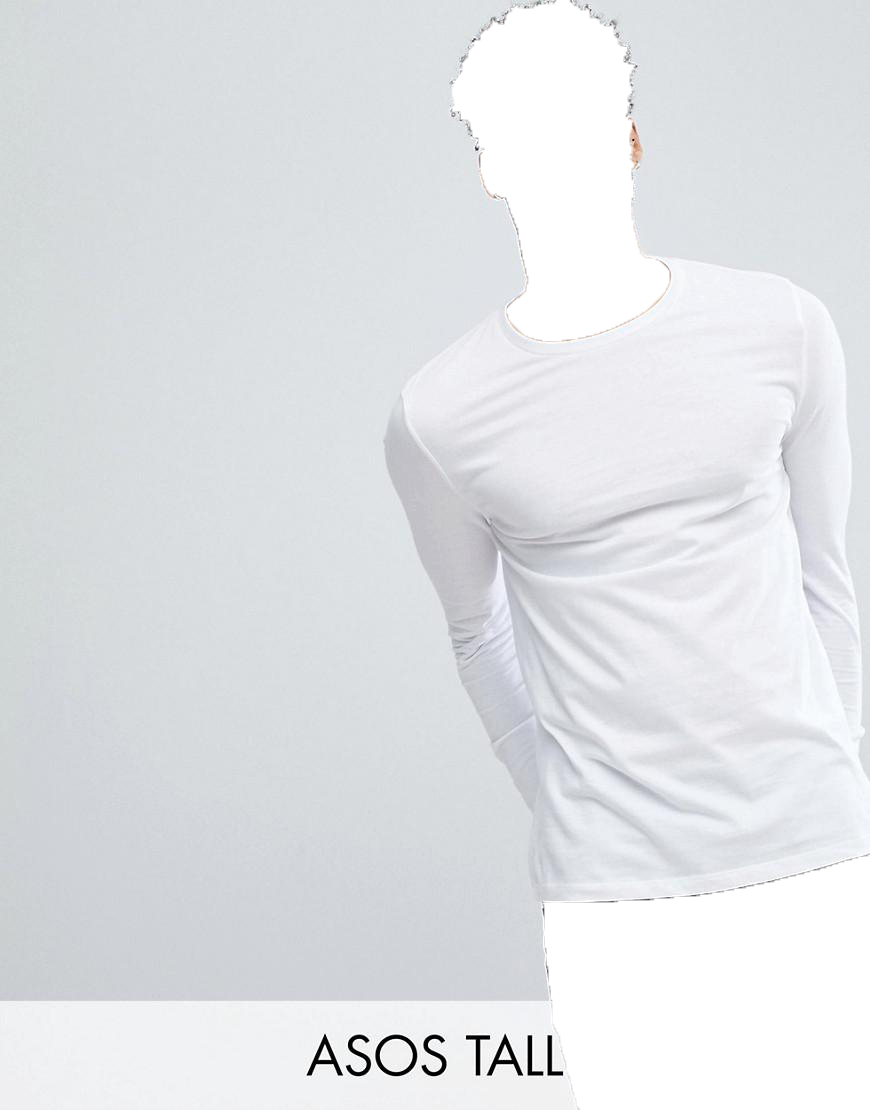teeshirt: (371, 251, 870, 915)
